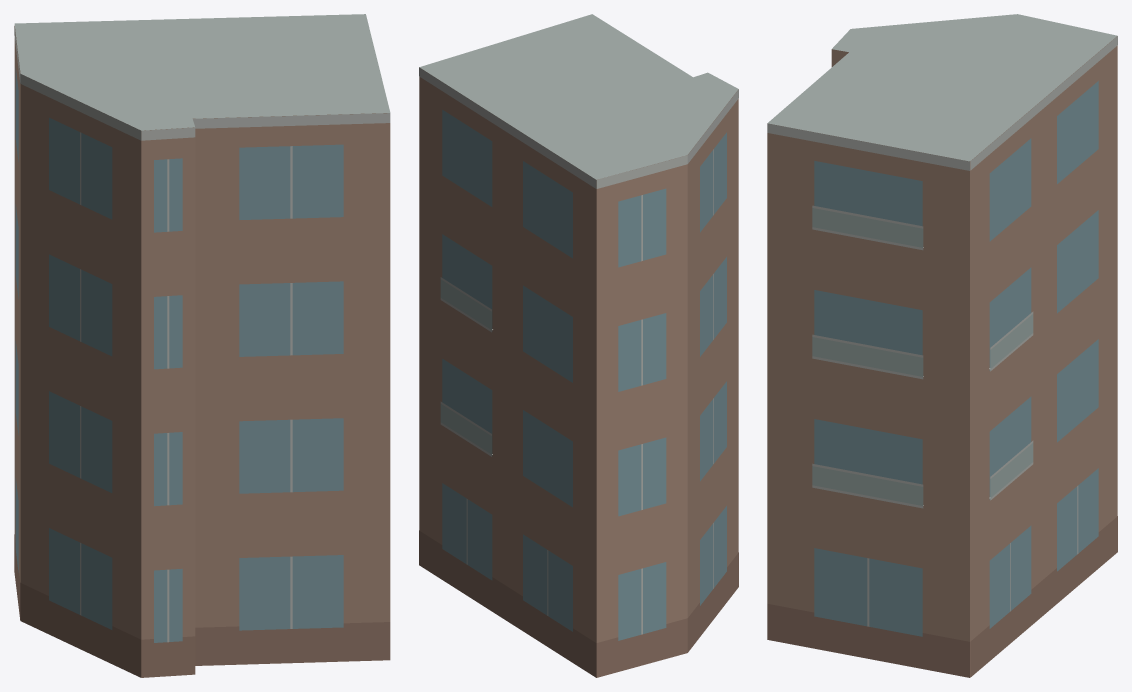
The model's file is survey-upis-32733937.glb.
The picture shows the model from 3 angles, left to right: view 1: azimuth 30°, elevation 25°; view 2: azimuth 150°, elevation 25°; view 3: azimuth 270°, elevation 25°; orthographic projection. The views are drawn at different scales.
Visible parts, largest first — view 1: survey-upis-32733937.tmp; view 2: survey-upis-32733937.tmp; view 3: survey-upis-32733937.tmp.
Boxes of the visible parts, left/top/right/bottom form: survey-upis-32733937.tmp: left=14, top=14, right=390, bottom=677; survey-upis-32733937.tmp: left=419, top=14, right=738, bottom=677; survey-upis-32733937.tmp: left=767, top=14, right=1117, bottom=677.
Bounding box in the file's own units: 8.09 × 13.2 × 8.13.
